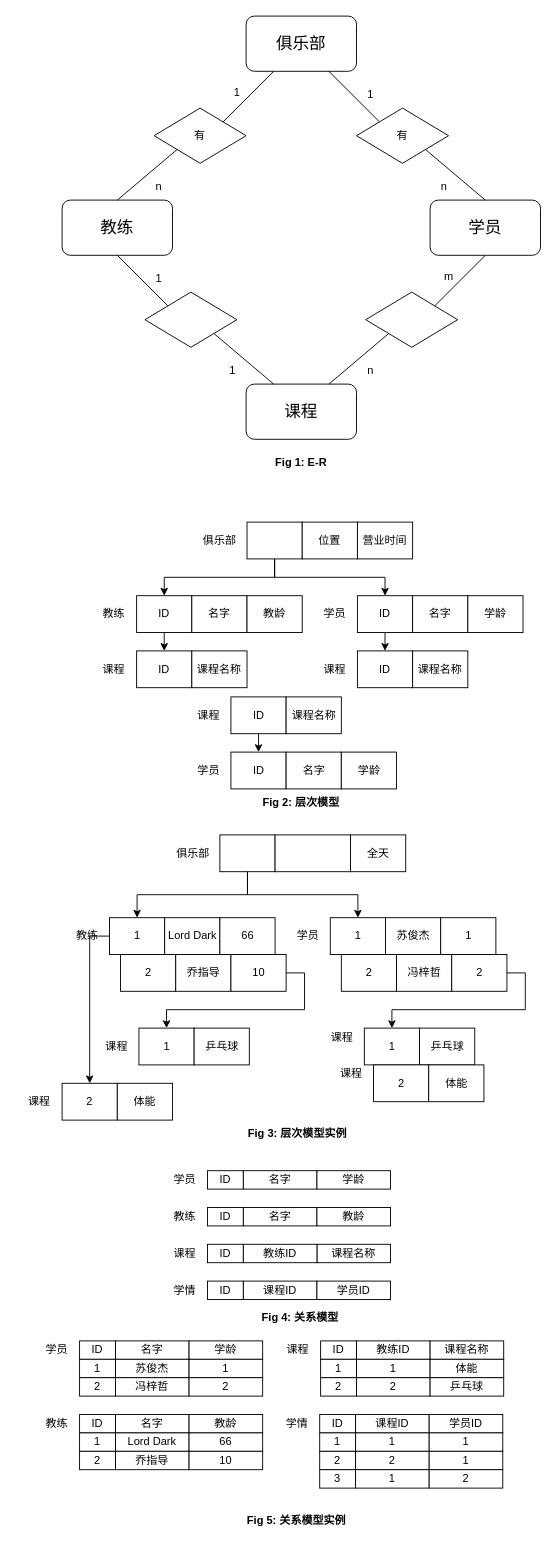
This 557x1550 diagram has some shape labels left out. Here are the shapes that lost their labels. From the top down, the box of each, then its label:
(144, 291, 237, 347): 指导
(365, 291, 458, 347): 学习
(246, 521, 302, 559): 名称
(219, 834, 275, 872): 北邮乒协
(274, 834, 351, 872): 北京邮电大学
